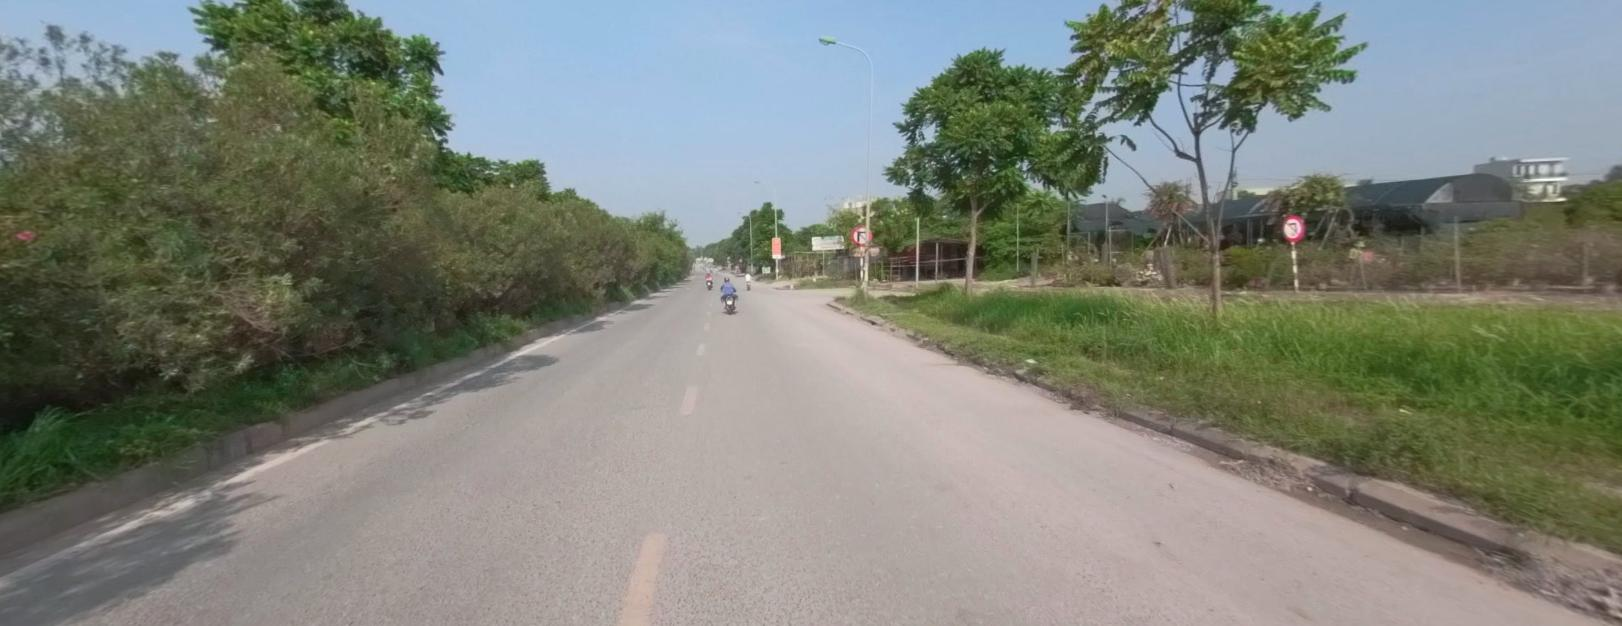Cam re: (850, 223, 874, 244)
